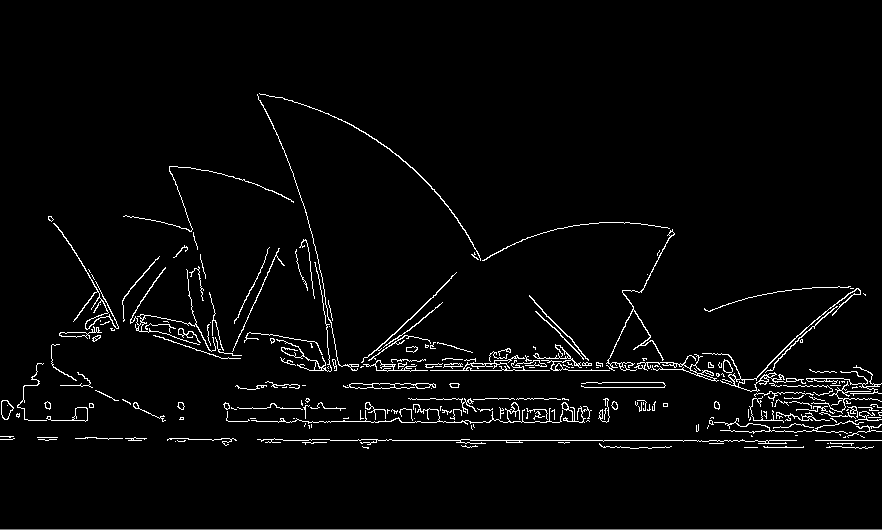opera house: (12, 69, 848, 406)
